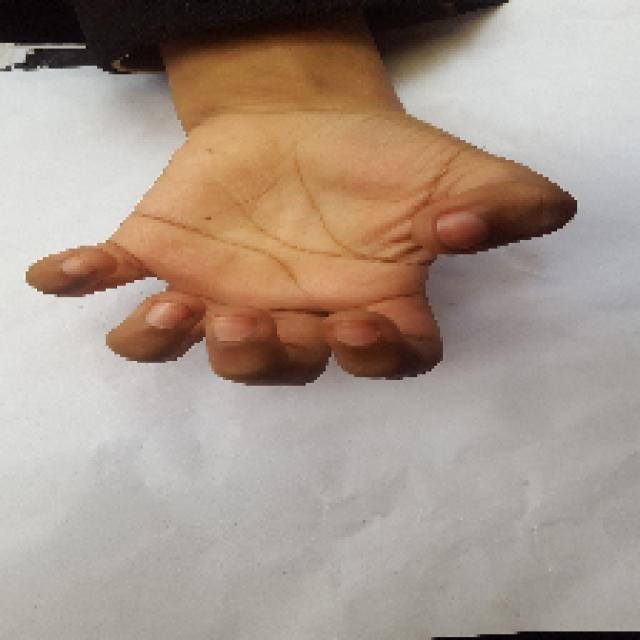Nail: (436, 210, 488, 249), (211, 312, 258, 341), (332, 318, 380, 346), (145, 302, 192, 329), (61, 256, 95, 276)
